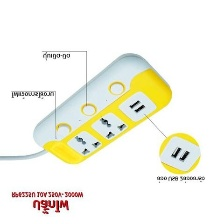three_eye_plug: (28, 51, 174, 170), (158, 131, 202, 175)
